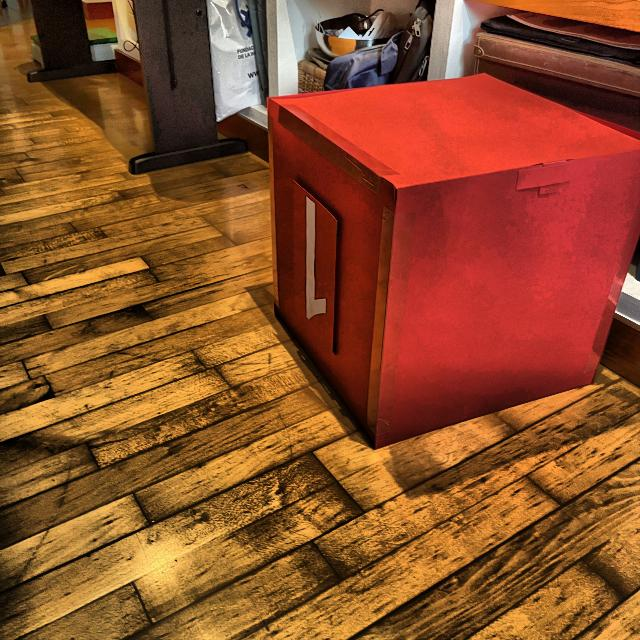one: (302, 198, 329, 323)
red box: (268, 73, 640, 450)
